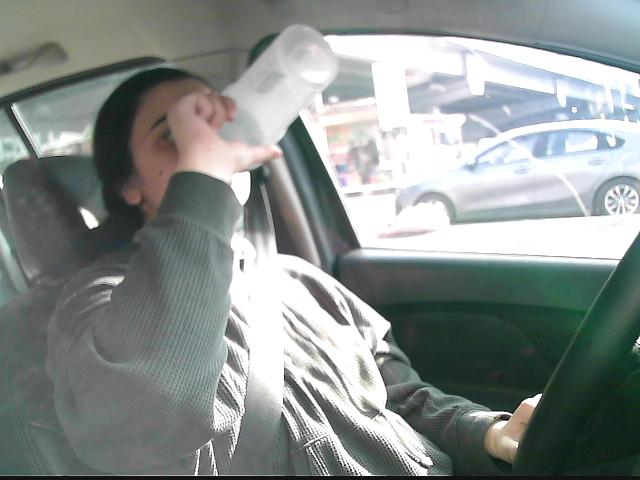Drinking: (189, 23, 342, 175)
